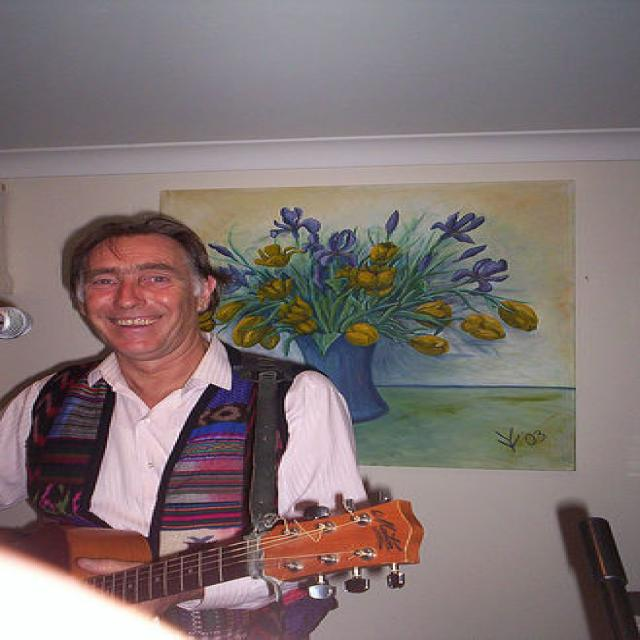person: (1, 215, 371, 640)
